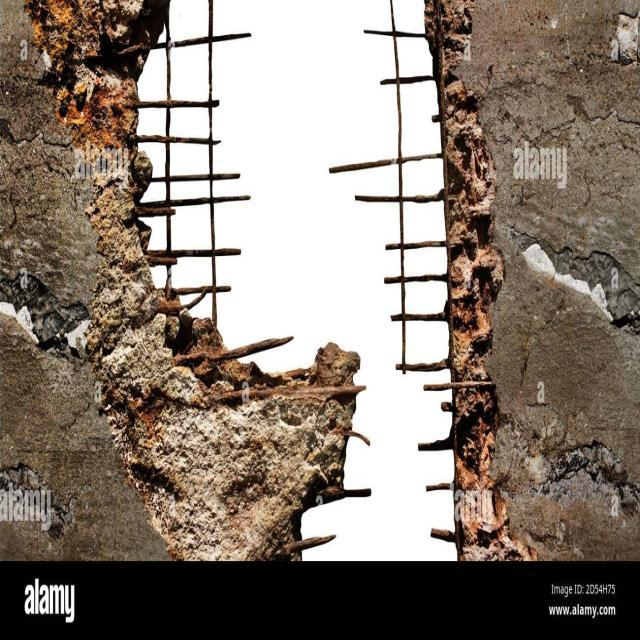Spalling: (12, 0, 367, 562)
corrosion: (165, 290, 361, 398)
